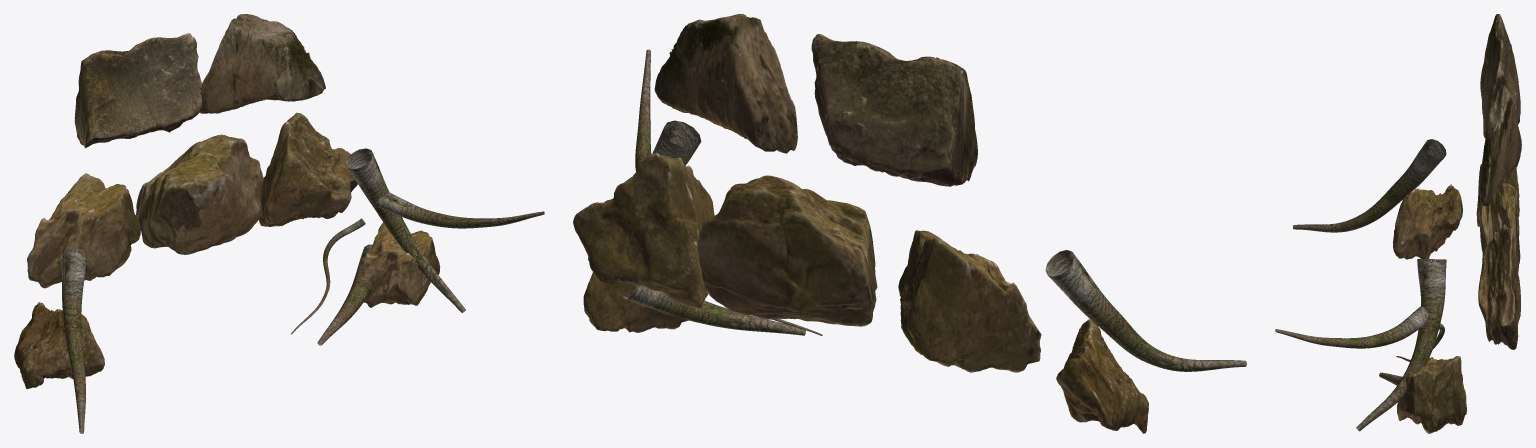
The model's file is center-integration.glb.
3 views of the same model, side by side, from view 1: azimuth 30°, elevation 25°; view 2: azimuth 150°, elevation 25°; view 3: azimuth 270°, elevation 25° (orthographic). The views are drawn at different scales.
Visible parts, largest first — view 1: Integration / recessed scanned seam 01, Integration / recessed scanned seam 03, Integration / recessed scanned seam 04, Integration / recessed scanned seam 00, Integration / recessed scanned seam 02, Integration / recessed scanned seam 05, Integration / recessed scanned seam 06, Integration / left seated buttress, Integration / right buttress into bank, Integration / right lateral root, Integration / right embedded toe, Integration / trailing rootlet; view 2: Integration / recessed scanned seam 01, Integration / recessed scanned seam 03, Integration / recessed scanned seam 00, Integration / recessed scanned seam 02, Integration / recessed scanned seam 04, Integration / recessed scanned seam 05, Integration / left seated buttress, Integration / recessed scanned seam 06, Integration / right embedded toe, Integration / right buttress into bank, Integration / right lateral root; view 3: Integration / recessed scanned seam 02, Integration / recessed scanned seam 06, Integration / recessed scanned seam 05, Integration / recessed scanned seam 04, Integration / right buttress into bank, Integration / left seated buttress, Integration / recessed scanned seam 03, Integration / recessed scanned seam 01, Integration / right lateral root, Integration / recessed scanned seam 00.
Part boxes in pixels (left/top/right/bottom): Integration / recessed scanned seam 01: left=136, top=134, right=263, bottom=254; Integration / recessed scanned seam 03: left=74, top=33, right=202, bottom=148; Integration / recessed scanned seam 04: left=199, top=14, right=325, bottom=113; Integration / recessed scanned seam 00: left=27, top=173, right=140, bottom=288; Integration / recessed scanned seam 02: left=259, top=112, right=357, bottom=226; Integration / recessed scanned seam 05: left=14, top=302, right=104, bottom=389; Integration / recessed scanned seam 06: left=362, top=222, right=440, bottom=307; Integration / left seated buttress: left=62, top=249, right=87, bottom=433; Integration / right buttress into bank: left=345, top=148, right=465, bottom=312; Integration / right lateral root: left=375, top=192, right=544, bottom=228; Integration / right embedded toe: left=317, top=244, right=372, bottom=345; Integration / trailing rootlet: left=291, top=218, right=365, bottom=334; Integration / recessed scanned seam 01: left=697, top=175, right=877, bottom=326; Integration / recessed scanned seam 03: left=811, top=34, right=977, bottom=186; Integration / recessed scanned seam 00: left=898, top=230, right=1041, bottom=372; Integration / recessed scanned seam 02: left=573, top=153, right=714, bottom=308; Integration / recessed scanned seam 04: left=654, top=14, right=797, bottom=153; Integration / recessed scanned seam 05: left=1056, top=319, right=1148, bottom=433; Integration / left seated buttress: left=1045, top=250, right=1246, bottom=371; Integration / recessed scanned seam 06: left=583, top=272, right=688, bottom=332; Integration / right embedded toe: left=623, top=285, right=805, bottom=335; Integration / right buttress into bank: left=652, top=120, right=701, bottom=165; Integration / right lateral root: left=635, top=49, right=651, bottom=171; Integration / recessed scanned seam 02: left=1478, top=224, right=1520, bottom=349; Integration / recessed scanned seam 06: left=1397, top=356, right=1466, bottom=433; Integration / recessed scanned seam 05: left=1393, top=184, right=1462, bottom=259; Integration / recessed scanned seam 04: left=1479, top=84, right=1521, bottom=206; Integration / right buttress into bank: left=1356, top=259, right=1446, bottom=431; Integration / left seated buttress: left=1293, top=139, right=1446, bottom=232; Integration / recessed scanned seam 03: left=1480, top=14, right=1520, bottom=137; Integration / recessed scanned seam 01: left=1479, top=183, right=1520, bottom=273; Integration / right lateral root: left=1275, top=306, right=1428, bottom=348; Integration / recessed scanned seam 00: left=1476, top=164, right=1519, bottom=226.
Bounding box in the file's own units: 0.6614 × 0.4025 × 0.3167.
Materials: 2 (2 with a texture image).
